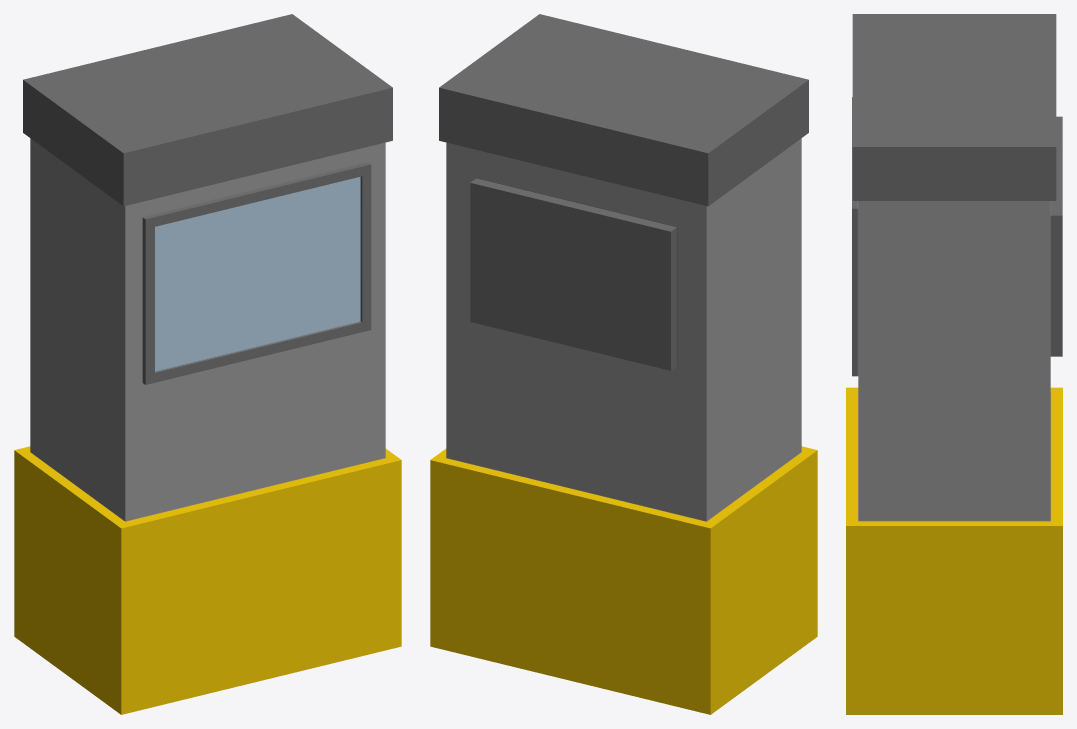
Rendered from 02 Barrier Base.fbx.
3 views of the same model, side by side, from view 1: azimuth 30°, elevation 25°; view 2: azimuth 150°, elevation 25°; view 3: azimuth 270°, elevation 25° (orthographic).
Parts seen in each view (by area): view 1: 02 Barrier Base; view 2: 02 Barrier Base; view 3: 02 Barrier Base.
Part boxes in pixels (left/top/right/bottom): 02 Barrier Base: left=14, top=14, right=401, bottom=714; 02 Barrier Base: left=430, top=14, right=817, bottom=714; 02 Barrier Base: left=846, top=14, right=1062, bottom=714.
Size of the model in its own units: 51.91 by 98.71 by 34.31.
1 material, 1 textured.
